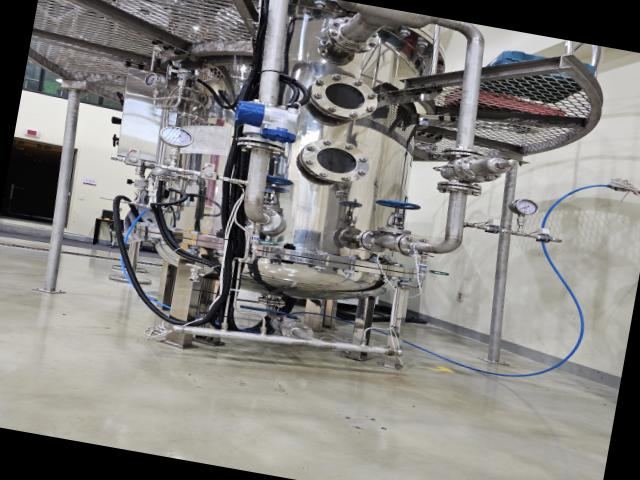Flange: (302, 68, 383, 126), (295, 134, 373, 189)
Flush Ring: (323, 12, 385, 55), (236, 201, 290, 238), (230, 132, 288, 156), (438, 144, 494, 166), (392, 230, 430, 262), (432, 177, 487, 199), (356, 226, 393, 255), (276, 318, 318, 342)
GasRegulator: (136, 61, 218, 121)
Nuts: (116, 152, 150, 170), (526, 229, 558, 246), (478, 222, 510, 238), (196, 166, 222, 184)
Piston Valve: (368, 189, 424, 235), (260, 171, 294, 209)
Pressure Gage: (150, 122, 198, 171), (502, 192, 541, 236)
